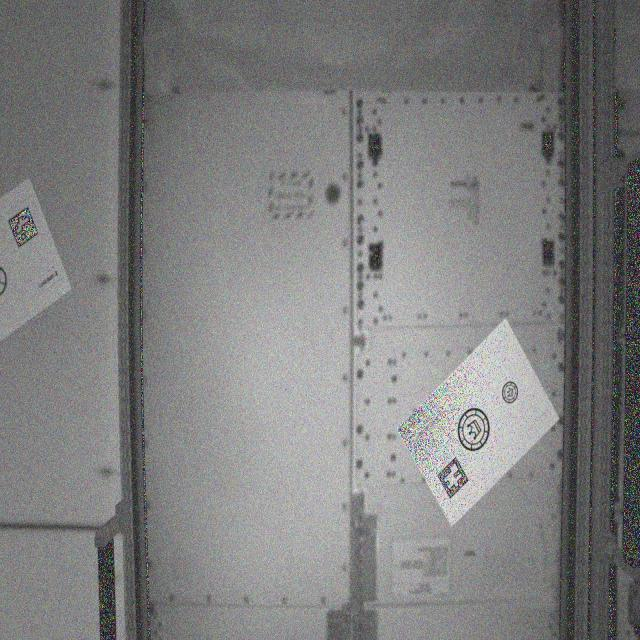coin: (457, 406, 493, 454), (503, 380, 521, 405)
